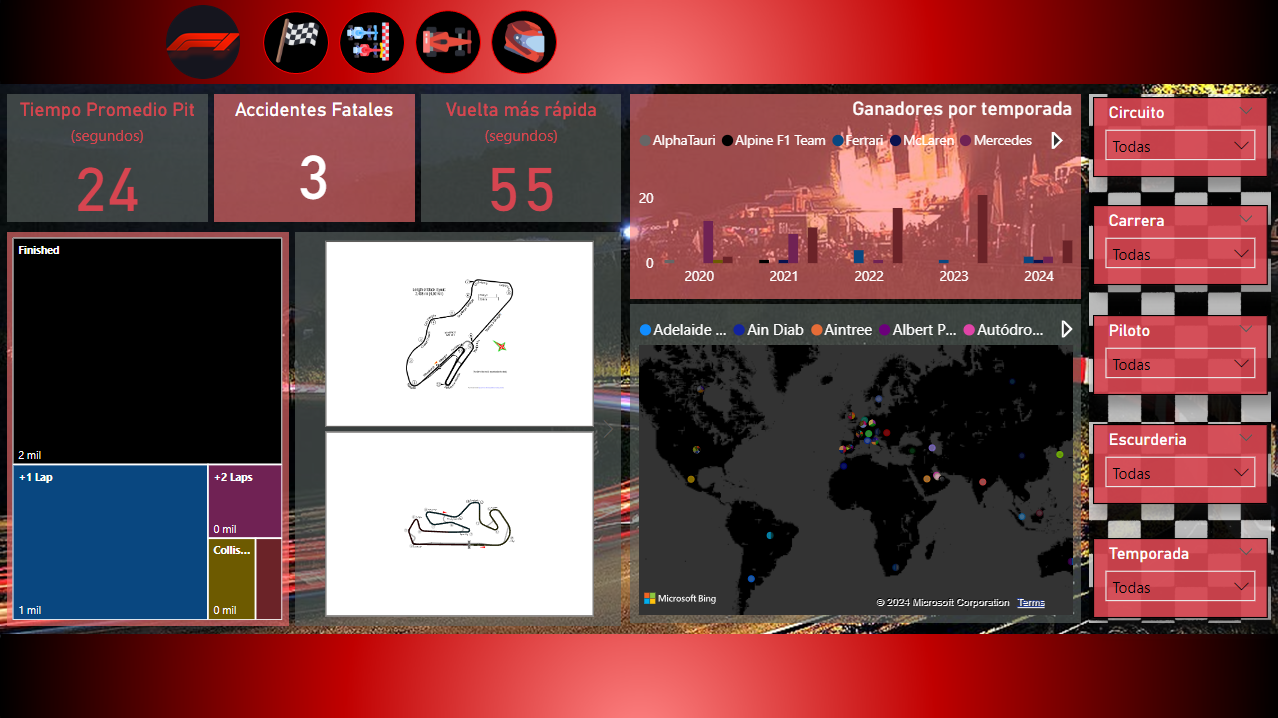

Layout of this report page (visuals, bound fields, positions):
{"tool":"powerbi","page":{"name":"Página 1","canvas":[1280,720],"ordinal":0},"visuals":[{"type":"clusteredColumnChart","fields":{"Category":["seasons.year"],"Y":["Sum(races.raceId)"]},"box":[10,0,280,280],"z":0},{"type":"esriVisual","fields":{"Latitude":["circuits.lat"],"Longitude":["circuits.lng"],"Location":["circuits.name"]},"box":[10.1,289.3,1229.5,403.7],"z":1},{"type":"htmlContent443BE3AD55E043BF878BED274D3A6855","fields":{"content":["circuits.HTML"]},"box":[290,0,950,280],"z":2}]}

Visuals, with their boxes in screenshot pixels (x1, y1, x2, y2), scaled from the page's 1280x720 canvas onto the 1278x718 screenshot:
clusteredColumnChart - seasons.year x Sum(races.raceId): crop(10, 0, 290, 279)
esriVisual - circuits.lat x circuits.lng: crop(10, 288, 1238, 691)
htmlContent443BE3AD55E043BF878BED274D3A6855 - circuits.HTML: crop(290, 0, 1238, 279)
